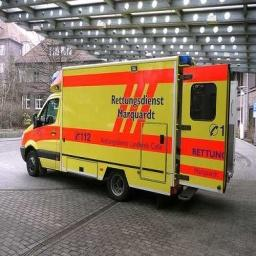ambulance: (21, 56, 234, 200)
